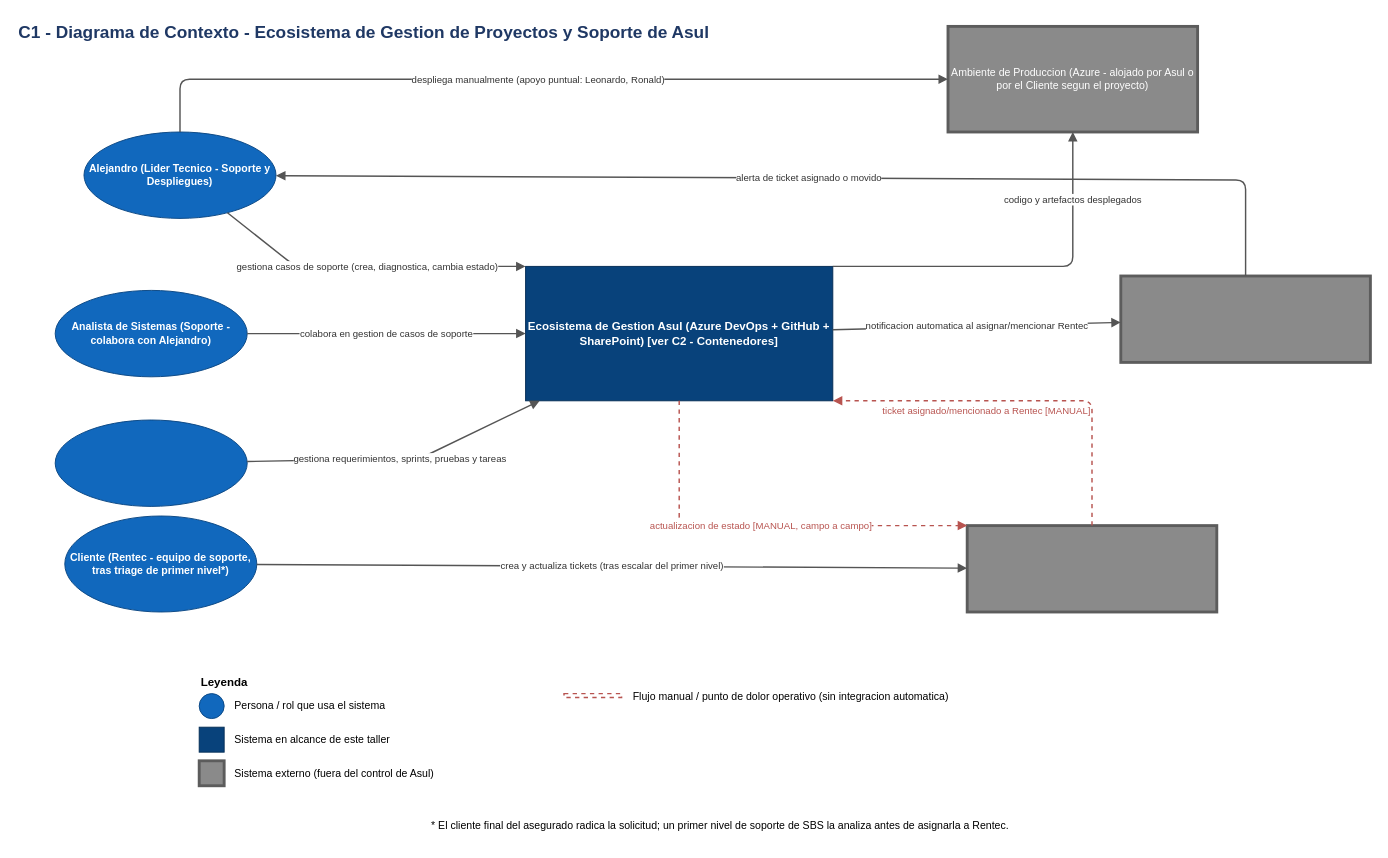
Some shapes in this 1388 by 858 pixel diagram are drawn without their labels. Here are the shapes that lost their labels. From the top down, the box of each, then its label:
(1119, 274, 1371, 363): Correo Corporativo (Microsoft 365)
(54, 419, 247, 506): Equipo de Desarrollo (requerimientos, pruebas, tareas)
(965, 524, 1218, 613): Jira (sistema del Cliente)
